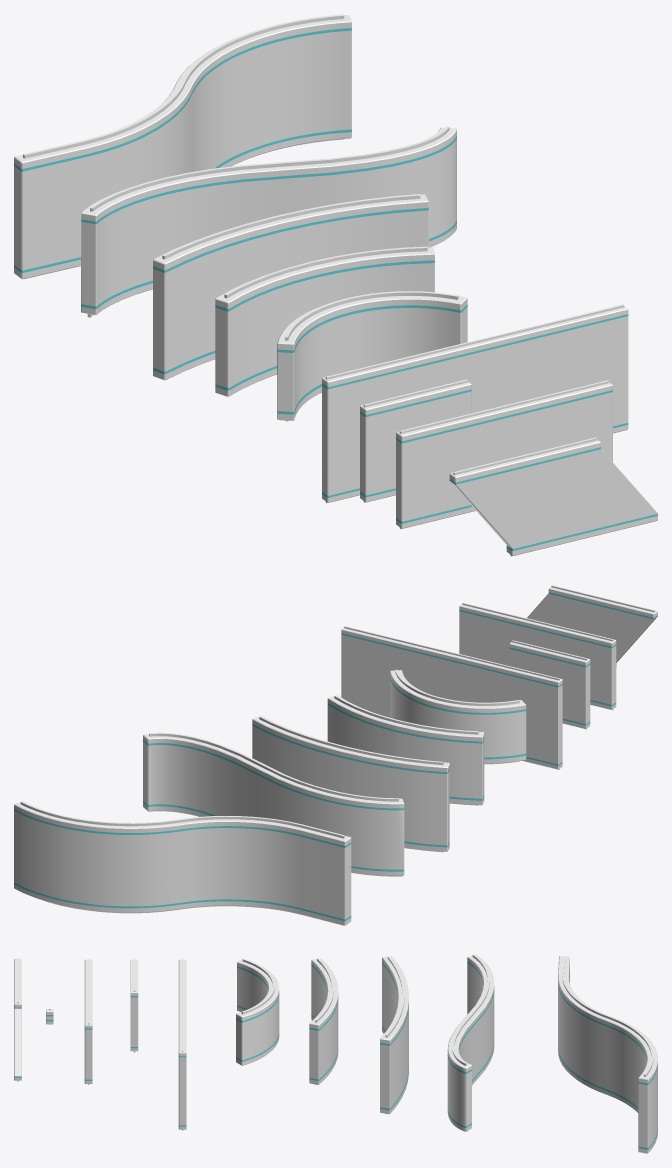
File: WallsUVMapped.fbx
The picture shows the model from 3 angles, top to bottom: view 1: azimuth 30°, elevation 25°; view 2: azimuth 150°, elevation 25°; view 3: azimuth 270°, elevation 25°; orthographic projection. The views are drawn at different scales.
Parts seen in each view (by area): view 1: Sbend_2, Sbend_1, Large_Wall, Curved_Large, Medium_Wall, Slanted, Curved_Medium, Cuved_Small, Small_Wall; view 2: Sbend_2, Sbend_1, Large_Wall, Curved_Large, Curved_Medium, Medium_Wall, Cuved_Small, Slanted, Small_Wall; view 3: Sbend_2, Sbend_1, Cuved_Small, Curved_Large, Curved_Medium, Large_Wall, Medium_Wall, Slanted, Small_Wall.
Part boxes in pixels (bbox=[...]): Sbend_2: bbox=[14, 14, 351, 279]; Sbend_1: bbox=[81, 126, 456, 317]; Large_Wall: bbox=[322, 304, 628, 503]; Curved_Large: bbox=[153, 194, 428, 380]; Medium_Wall: bbox=[396, 380, 612, 528]; Slanted: bbox=[449, 437, 657, 556]; Curved_Medium: bbox=[215, 246, 434, 396]; Cuved_Small: bbox=[277, 291, 467, 421]; Small_Wall: bbox=[360, 379, 471, 502]; Sbend_2: bbox=[14, 801, 351, 925]; Sbend_1: bbox=[143, 732, 404, 876]; Large_Wall: bbox=[341, 626, 562, 769]; Curved_Large: bbox=[252, 716, 449, 852]; Curved_Medium: bbox=[327, 695, 484, 805]; Medium_Wall: bbox=[459, 602, 616, 710]; Cuved_Small: bbox=[390, 669, 526, 764]; Slanted: bbox=[527, 585, 657, 667]; Small_Wall: bbox=[509, 640, 590, 729]; Sbend_2: bbox=[558, 956, 657, 1153]; Sbend_1: bbox=[447, 954, 494, 1131]; Cuved_Small: bbox=[236, 958, 279, 1065]; Curved_Large: bbox=[380, 956, 408, 1114]; Curved_Medium: bbox=[309, 958, 338, 1084]; Large_Wall: bbox=[178, 958, 186, 1130]; Medium_Wall: bbox=[84, 958, 92, 1084]; Slanted: bbox=[14, 958, 21, 1081]; Small_Wall: bbox=[130, 958, 138, 1052].
Bounding box in the file's own units: 923 × 281 × 2004.
